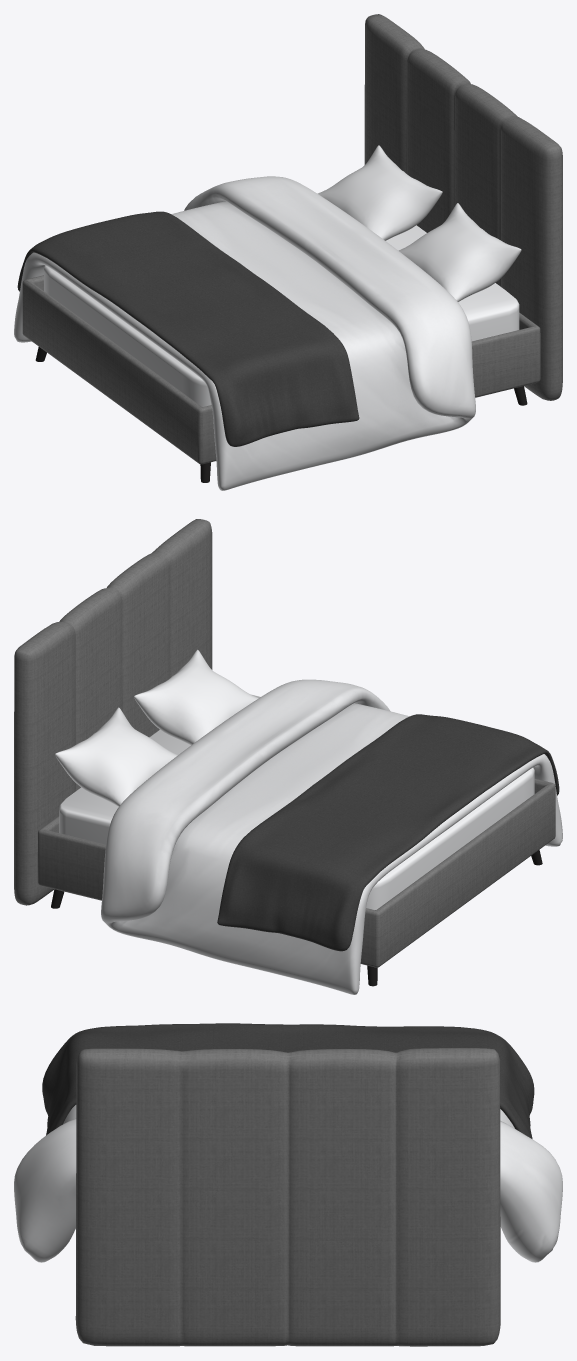
File: bedbrown.glb
3 views of the same model, one above another, from view 1: azimuth 30°, elevation 25°; view 2: azimuth 150°, elevation 25°; view 3: azimuth 270°, elevation 25° (orthographic). The views are drawn at different scales.
Visible parts, largest first — view 1: OBJ_Bed_Blanket_1, OBJ_Bed_Body_0; view 2: OBJ_Bed_Blanket_1, OBJ_Bed_Body_0; view 3: OBJ_Bed_Body_0, OBJ_Bed_Blanket_1.
Boxes of the visible parts, x1,y1,x2,y2 form: OBJ_Bed_Blanket_1: (14,145,521,490); OBJ_Bed_Body_0: (22,14,562,482); OBJ_Bed_Blanket_1: (55,649,562,994); OBJ_Bed_Body_0: (14,519,555,986); OBJ_Bed_Body_0: (75,1048,500,1346); OBJ_Bed_Blanket_1: (14,1023,562,1262).
Size of the model in its own units: 2.25 by 1.51 by 2.56.
Materials: 2 (2 with a texture image).
